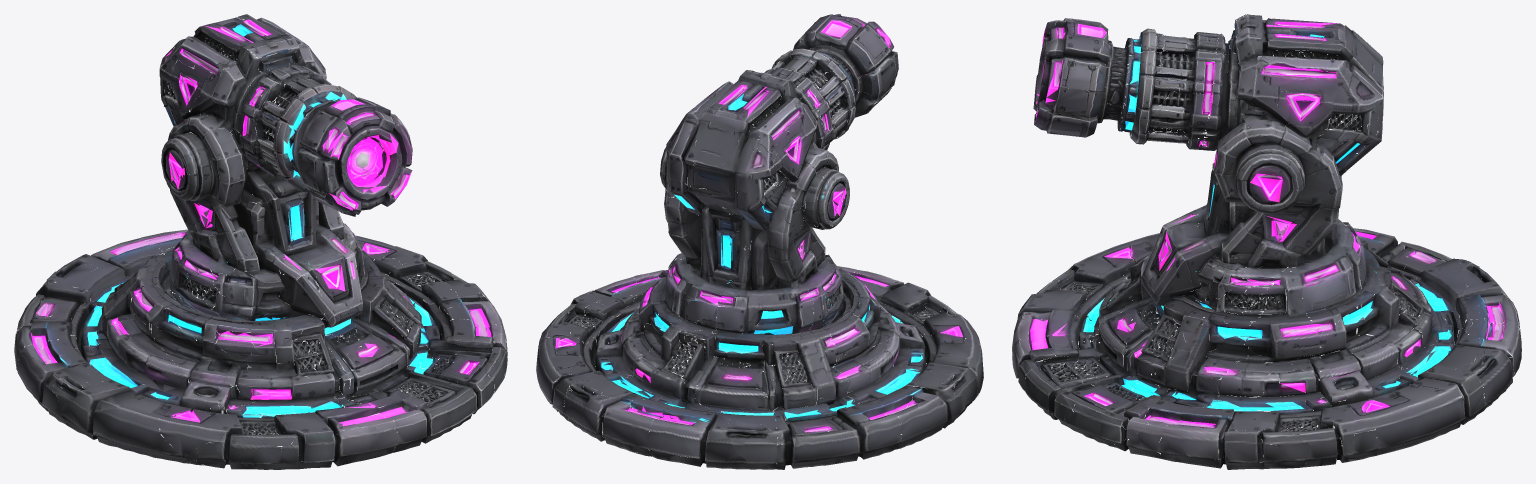
Rendered from warrior-4-tier-3.glb.
3 renders of one model, left to right at view 1: azimuth 30°, elevation 25°; view 2: azimuth 150°, elevation 25°; view 3: azimuth 270°, elevation 25°, orthographic. The views are drawn at different scales.
Visible parts, largest first — view 1: fixed-platform, moving-assembly; view 2: fixed-platform, moving-assembly; view 3: fixed-platform, moving-assembly.
Part boxes in pixels (left/top/right/bottom): fixed-platform: left=14, top=229, right=507, bottom=469; moving-assembly: left=137, top=14, right=412, bottom=323; fixed-platform: left=536, top=265, right=983, bottom=469; moving-assembly: left=651, top=14, right=898, bottom=345; fixed-platform: left=1012, top=227, right=1521, bottom=469; moving-assembly: left=1033, top=14, right=1390, bottom=324.
Bounding box in the file's own units: 0.8313 × 0.6145 × 0.8259.
3 materials, 3 textured.
